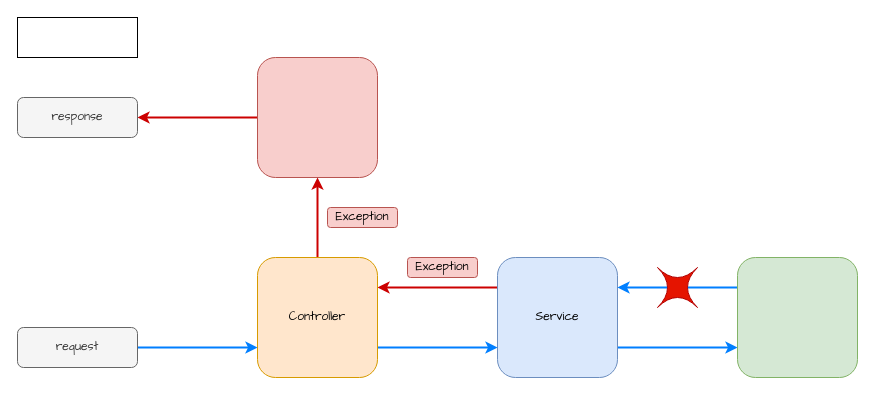
Some shapes in this 875 by 395 pixel diagram are drawn without their labels. Each missing label, with the box of its shape:
Exception Handler: (256, 56, 378, 178)
Repository: (736, 256, 858, 378)
異常系 part1: (16, 16, 138, 58)
